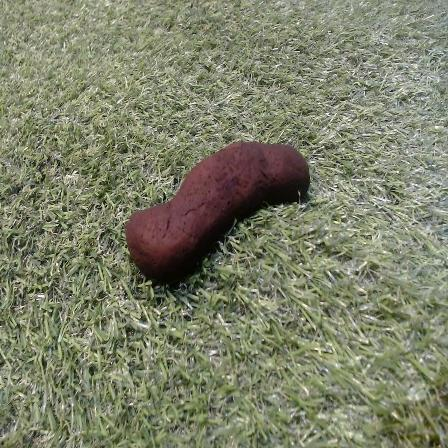dog-poop: (102, 135, 319, 292)
